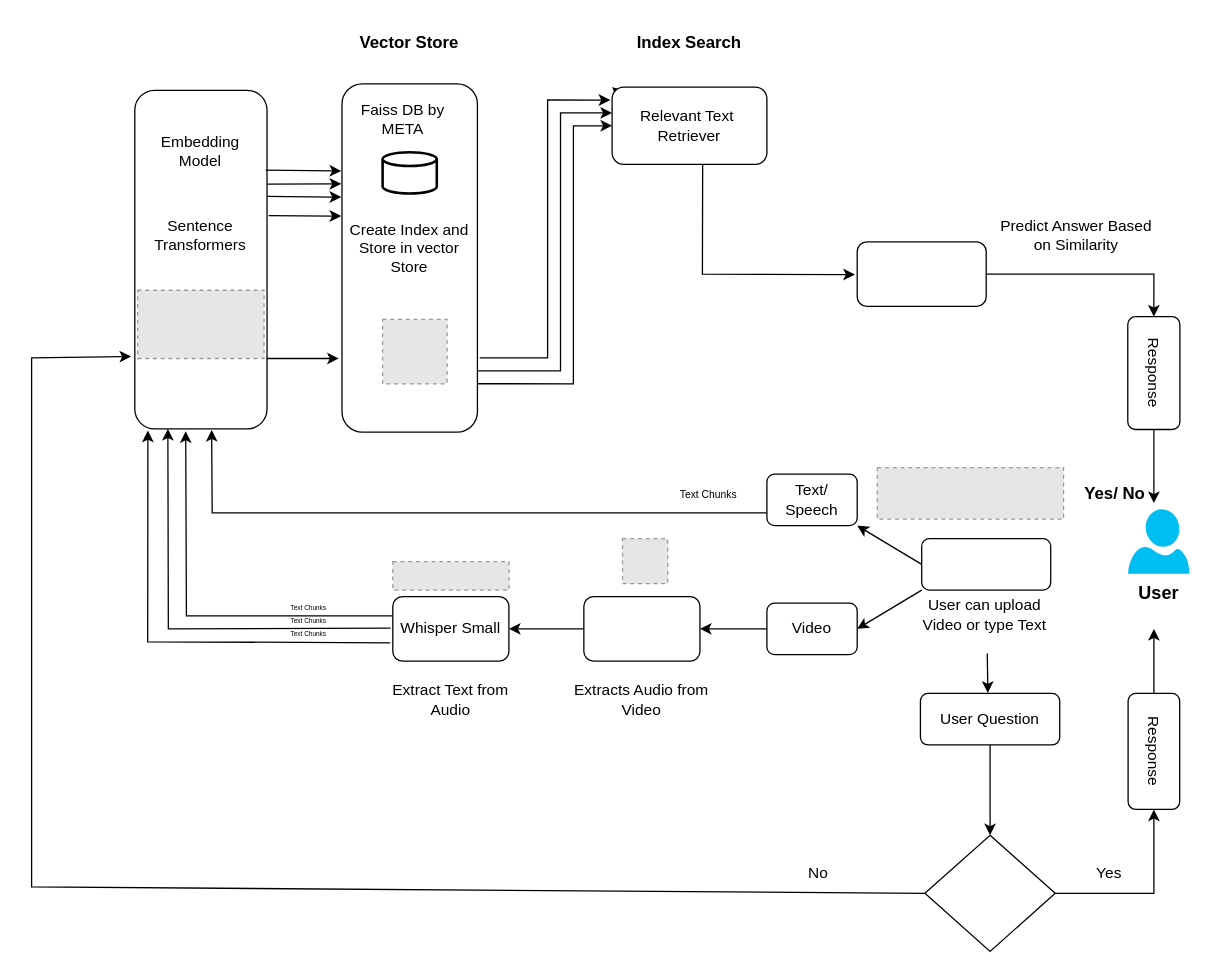
This 1220x974 diagram has some shape labels left out. Grey dashed boxes stand in for pictures. Here are the shapes that lost their labels. From the top down, the centre of each, then its label:
At point (921, 273): "Semantic Search".
At point (985, 563): "WebApp".
At point (641, 628): "MoviePy".
At point (989, 892): "If present in cache?".
